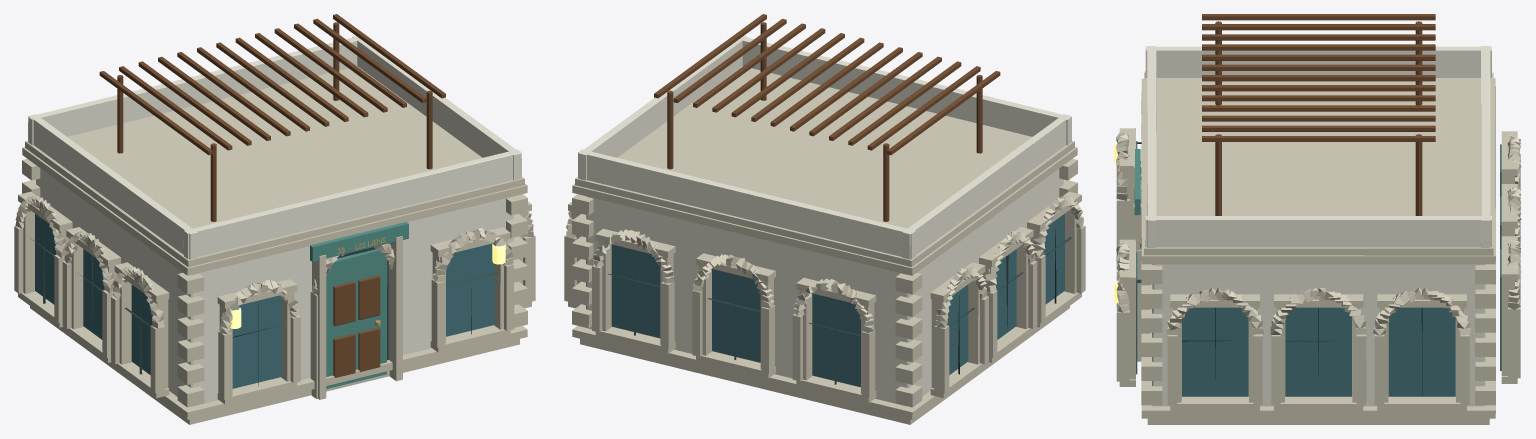
The model's file is algerie-1-lod.glb.
The picture shows the model from 3 angles, left to right: view 1: azimuth 30°, elevation 25°; view 2: azimuth 150°, elevation 25°; view 3: azimuth 270°, elevation 25°; orthographic projection. The views are drawn at different scales.
Parts seen in each view (by area): view 1: algerie-1_Dressed stone.001, algerie-1_Masonry plaster.001, algerie-1_Walnut.001, algerie-1_Window blue.001, algerie-1_Regional painted wood.001, algerie-1_Forged midnight.001; view 2: algerie-1_Dressed stone.001, algerie-1_Masonry plaster.001, algerie-1_Window blue.001, algerie-1_Walnut.001, algerie-1_Forged midnight.001; view 3: algerie-1_Dressed stone.001, algerie-1_Masonry plaster.001, algerie-1_Walnut.001, algerie-1_Window blue.001, algerie-1_Forged midnight.001, algerie-1_Regional painted wood.001.
Part boxes in pixels (<box>): algerie-1_Dressed stone.001: <box>14,66,535,424</box>; algerie-1_Masonry plaster.001: <box>28,36,521,406</box>; algerie-1_Walnut.001: <box>99,14,445,377</box>; algerie-1_Window blue.001: <box>35,214,494,388</box>; algerie-1_Regional painted wood.001: <box>310,222,408,388</box>; algerie-1_Forged midnight.001: <box>30,227,498,385</box>; algerie-1_Dressed stone.001: <box>564,66,1085,424</box>; algerie-1_Masonry plaster.001: <box>578,36,1071,406</box>; algerie-1_Window blue.001: <box>611,213,1064,386</box>; algerie-1_Walnut.001: <box>654,14,1000,221</box>; algerie-1_Forged midnight.001: <box>608,229,1071,384</box>; algerie-1_Dressed stone.001: <box>1116,72,1521,424</box>; algerie-1_Masonry plaster.001: <box>1145,46,1491,406</box>; algerie-1_Walnut.001: <box>1202,14,1435,215</box>; algerie-1_Window blue.001: <box>1136,141,1501,396</box>; algerie-1_Forged midnight.001: <box>1137,142,1455,396</box>; algerie-1_Regional painted wood.001: <box>1134,149,1140,215</box>.
Bounding box in the file's own units: 14.19 × 8.66 × 12.2.
